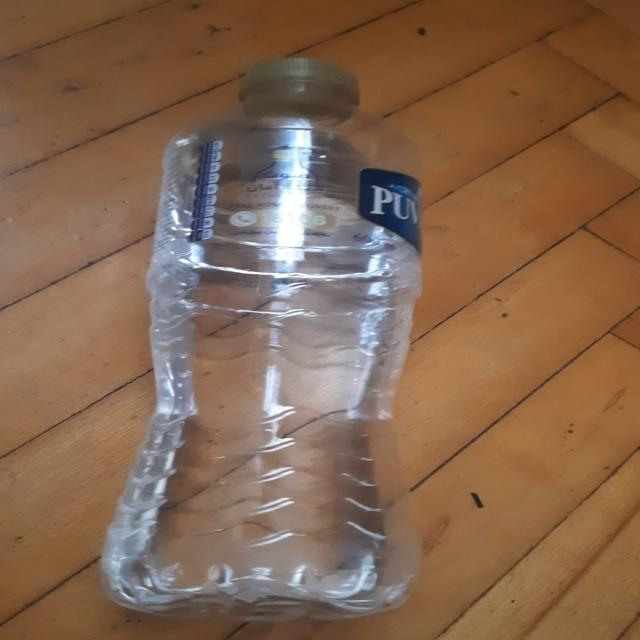Plastic: (99, 58, 422, 632)
